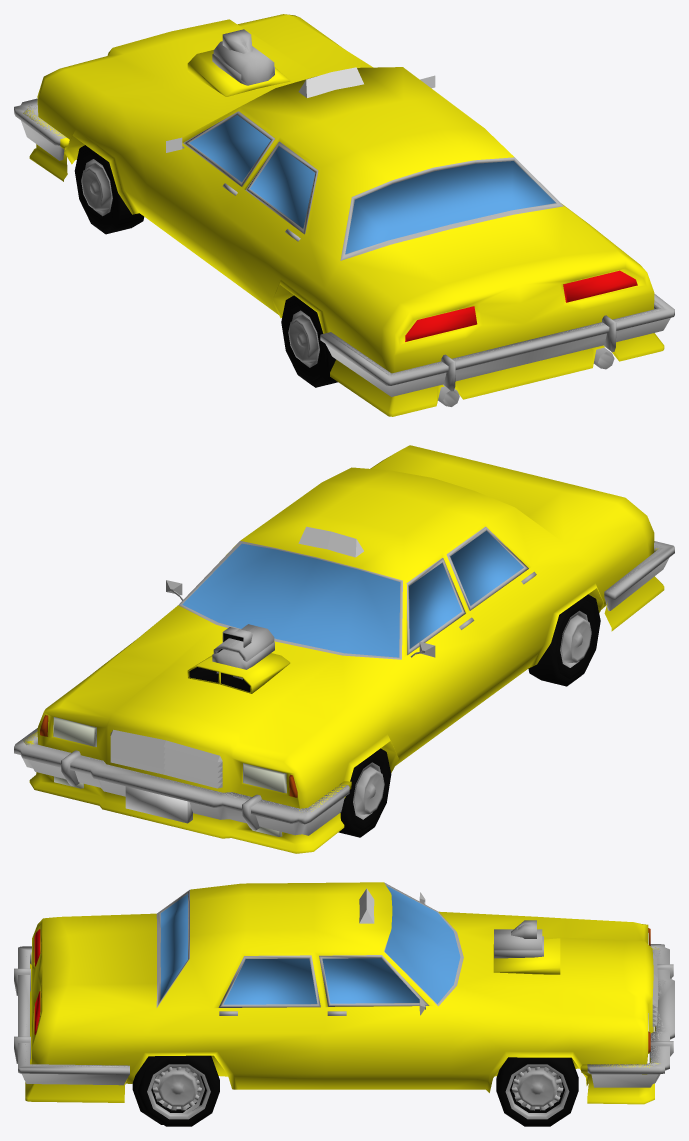
The model's file is taxi_v2.fbx.
3 views of the same model, one above another, from view 1: azimuth 30°, elevation 25°; view 2: azimuth 150°, elevation 25°; view 3: azimuth 270°, elevation 25° (orthographic). The views are drawn at different scales.
Parts seen in each view (by area): view 1: Taxi, RearBumper1, RearBumper4, Wheel1, Wheel1.001, silnik3, FrontBumper1, silnik1, Logo, FrontBumper4, silnik2, Wheel3.002 (+1 smaller); view 2: Taxi, FrontBumper1, FrontBumper4, Grill1, Wheel1, Wheel1.001, silnik3, RearBumper1, Wheel3.003, RearBumper4, silnik2, Logo (+2 smaller); view 3: Taxi, RearBumper1, FrontBumper1, Wheel3.001, Wheel3, Wheel1.002, RearBumper4, Wheel1.003, silnik3, FrontBumper4, silnik1, silnik2 (+4 smaller).
Boxes of the visible parts, <box> form: Taxi: <box>37,14,654,373</box>; RearBumper1: <box>320,293,674,396</box>; RearBumper4: <box>330,333,664,416</box>; Wheel1: <box>76,145,124,227</box>; Wheel1.001: <box>283,301,323,378</box>; silnik3: <box>187,50,290,96</box>; FrontBumper1: <box>14,98,66,160</box>; silnik1: <box>213,41,274,85</box>; Logo: <box>298,67,363,97</box>; FrontBumper4: <box>23,106,69,181</box>; silnik2: <box>212,29,274,85</box>; Wheel3.002: <box>74,145,141,234</box>; Taxi: <box>37,445,654,808</box>; FrontBumper1: <box>14,728,349,835</box>; FrontBumper4: <box>23,731,351,853</box>; Grill1: <box>110,729,222,788</box>; Wheel1: <box>342,748,389,830</box>; Wheel1.001: <box>556,601,596,679</box>; silnik3: <box>187,653,290,693</box>; RearBumper1: <box>604,541,674,610</box>; Wheel3.003: <box>528,598,597,686</box>; RearBumper4: <box>604,548,664,631</box>; silnik2: <box>212,627,274,679</box>; Logo: <box>298,526,363,557</box>; Taxi: <box>31,882,653,1092</box>; RearBumper1: <box>14,946,129,1085</box>; FrontBumper1: <box>587,944,674,1087</box>; Wheel3.001: <box>138,1055,219,1126</box>; Wheel3: <box>496,1057,578,1126</box>; Wheel1.002: <box>496,1057,578,1112</box>; RearBumper4: <box>25,963,127,1102</box>; Wheel1.003: <box>151,1055,212,1112</box>; silnik3: <box>493,938,560,974</box>; FrontBumper4: <box>580,946,658,1104</box>; silnik1: <box>494,929,542,957</box>; silnik2: <box>494,920,543,958</box>.
Bounding box in the file's own units: 156 × 99.41 × 350.
